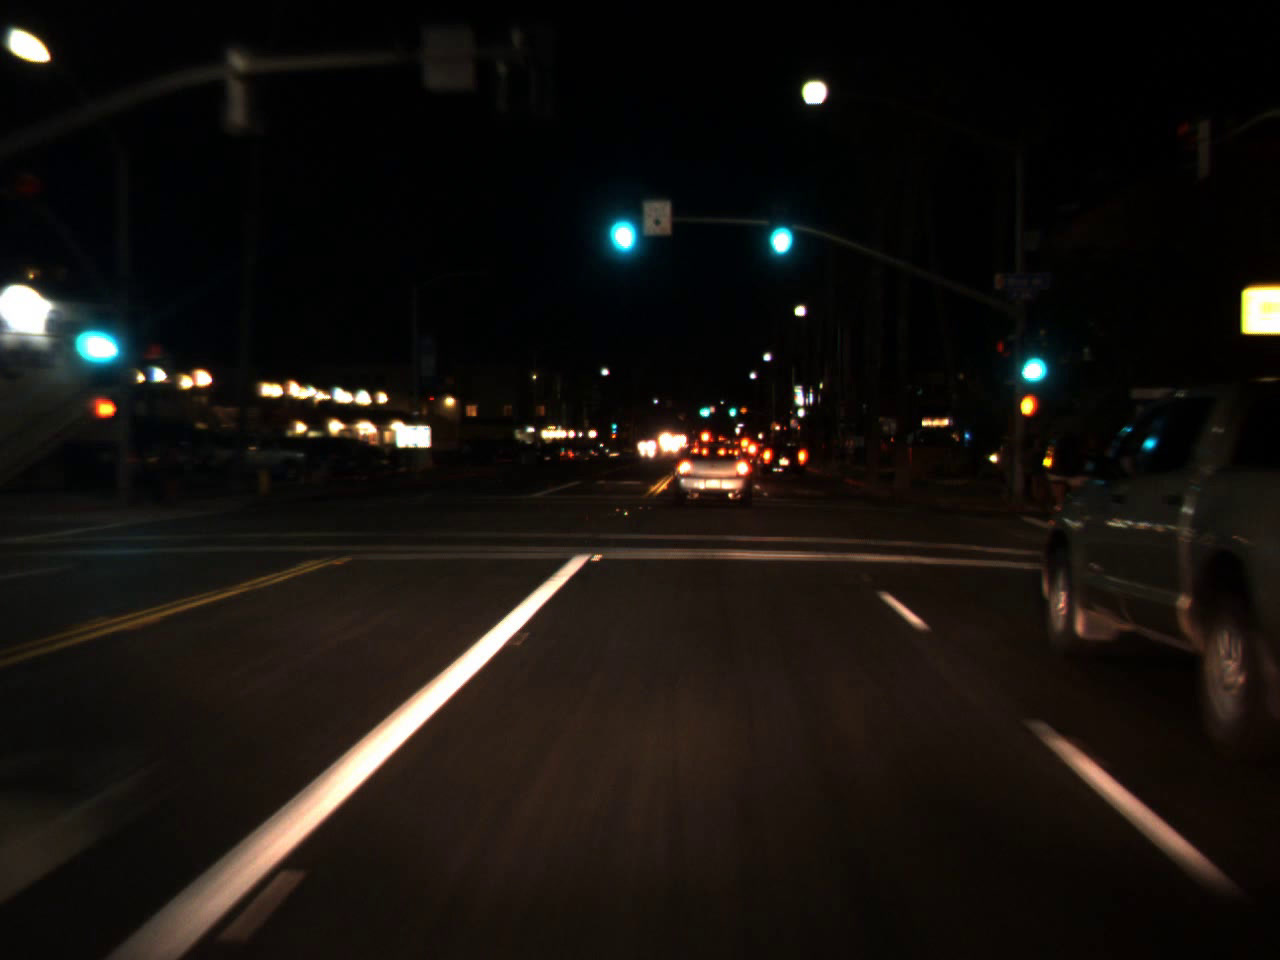go: (70, 296, 122, 374), (598, 179, 643, 264), (1010, 326, 1051, 392), (760, 192, 797, 264), (695, 396, 713, 419), (727, 400, 737, 418), (610, 418, 617, 430)
